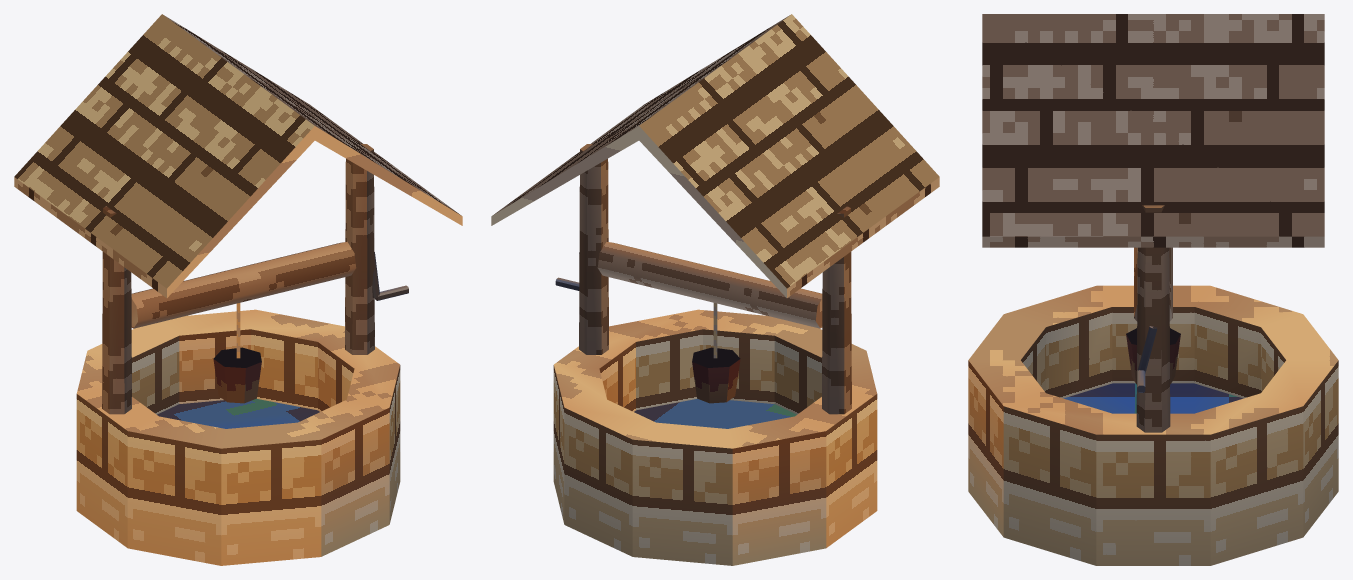
File: wprop.well.glb
3 renders of one model, left to right at view 1: azimuth 30°, elevation 25°; view 2: azimuth 150°, elevation 25°; view 3: azimuth 270°, elevation 25°, orthographic. The views are drawn at different scales.
Parts seen in each view (by area): view 1: kit_curb, kit_roof, kit_posts, kit_drum, kit_water, kit_bucket; view 2: kit_curb, kit_roof, kit_posts, kit_drum, kit_water, kit_bucket; view 3: kit_curb, kit_roof, kit_posts, kit_water, kit_bucket, kit_crank, kit_drum.
Boxes of the visible parts, bbox=[...] form: kit_curb: bbox=[76, 309, 400, 565]; kit_roof: bbox=[14, 14, 462, 297]; kit_posts: bbox=[102, 144, 374, 414]; kit_drum: bbox=[131, 241, 356, 328]; kit_water: bbox=[157, 398, 319, 428]; kit_bucket: bbox=[213, 347, 261, 403]; kit_curb: bbox=[553, 309, 877, 565]; kit_roof: bbox=[491, 14, 939, 297]; kit_posts: bbox=[579, 144, 851, 414]; kit_drum: bbox=[597, 241, 822, 328]; kit_water: bbox=[634, 398, 796, 428]; kit_bucket: bbox=[692, 347, 740, 403]; kit_curb: bbox=[968, 285, 1338, 565]; kit_roof: bbox=[982, 14, 1324, 247]; kit_posts: bbox=[1136, 205, 1170, 432]; kit_water: bbox=[1063, 383, 1243, 413]; kit_bucket: bbox=[1126, 328, 1180, 384]; kit_crank: bbox=[1137, 326, 1157, 392]; kit_drum: bbox=[1134, 247, 1172, 321].
Bounding box in the file's own units: 2 × 2.62 × 1.84.
11 materials, 11 textured.
